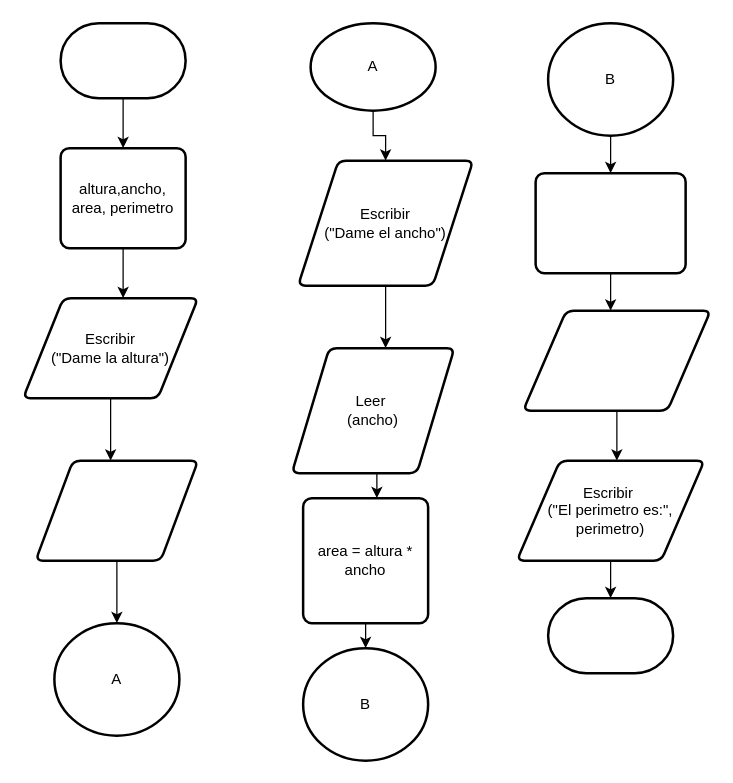
This 733x783 diagram has some shape labels left out. Here are the shapes that lost their labels. From the top down, the centre of each, then its label:
point 122,60: Inicio
point 610,222: perimetro = 2 (altura + ancho)
point 616,360: Escribir ("El area es:", area)
point 116,510: Leer(altura)
point 610,635: Fin
